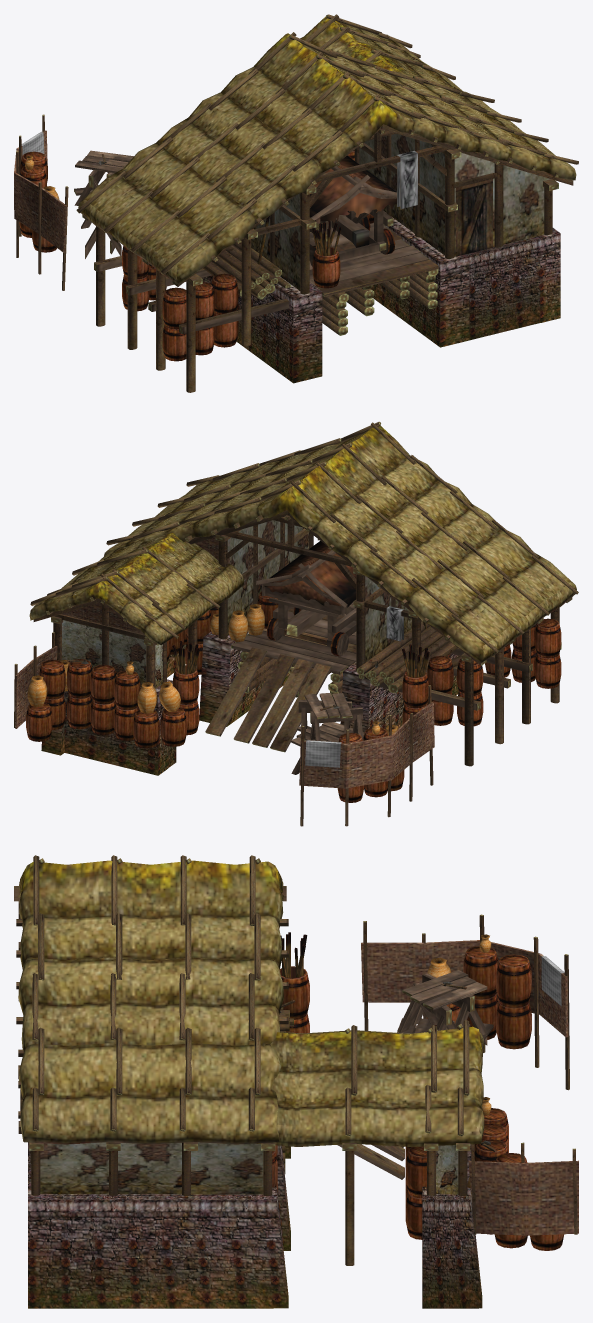
The model's file is s_gauls_workshop.glb.
3 views of the same model, one above another, from view 1: azimuth 30°, elevation 25°; view 2: azimuth 150°, elevation 25°; view 3: azimuth 270°, elevation 25° (orthographic). The views are drawn at different scales.
Visible parts, largest first — view 1: s_gauls_workshop_part0; view 2: s_gauls_workshop_part0; view 3: s_gauls_workshop_part0.
Part boxes in pixels (left/top/right/bottom): s_gauls_workshop_part0: left=14, top=14, right=578, bottom=392; s_gauls_workshop_part0: left=14, top=421, right=578, bottom=826; s_gauls_workshop_part0: left=14, top=855, right=578, bottom=1308.
Size of the model in its own units: 5 by 3.04 by 4.58.
1 material, 1 textured.
